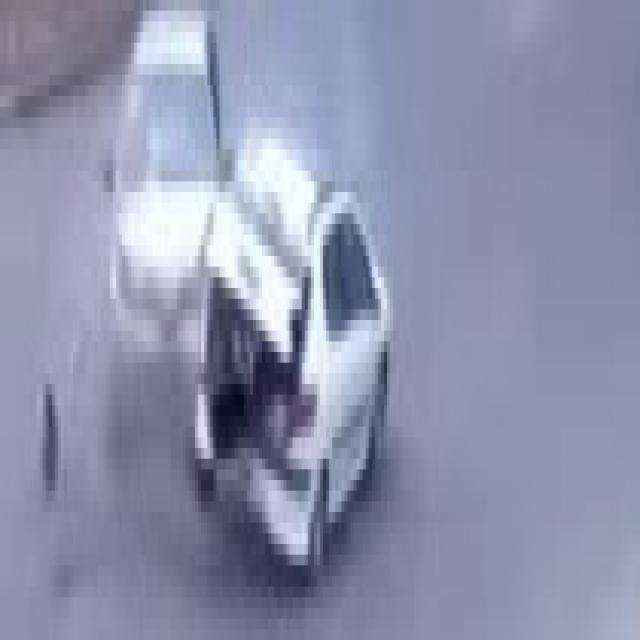accident: (102, 18, 388, 576)
